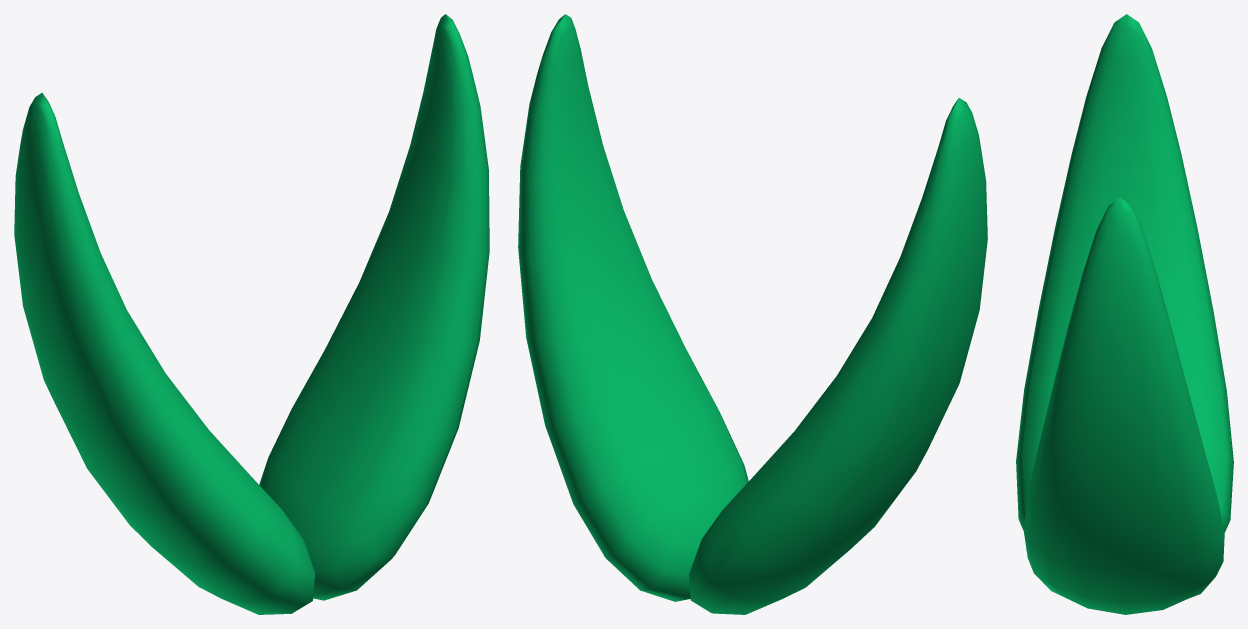
Rendered from City_15_Grass_3.glb.
The picture shows the model from 3 angles, left to right: view 1: azimuth 30°, elevation 25°; view 2: azimuth 150°, elevation 25°; view 3: azimuth 270°, elevation 25°; orthographic projection. The views are drawn at different scales.
Visible parts, largest first — view 1: City_15_Grass_3; view 2: City_15_Grass_3; view 3: City_15_Grass_3.
Part boxes in pixels (<box>): City_15_Grass_3: <box>14,14,489,614</box>; City_15_Grass_3: <box>518,14,987,614</box>; City_15_Grass_3: <box>1016,14,1233,614</box>.
Bounding box in the file's own units: 0.1807 × 0.2186 × 0.0883.
Materials: 1 (1 with a texture image).
